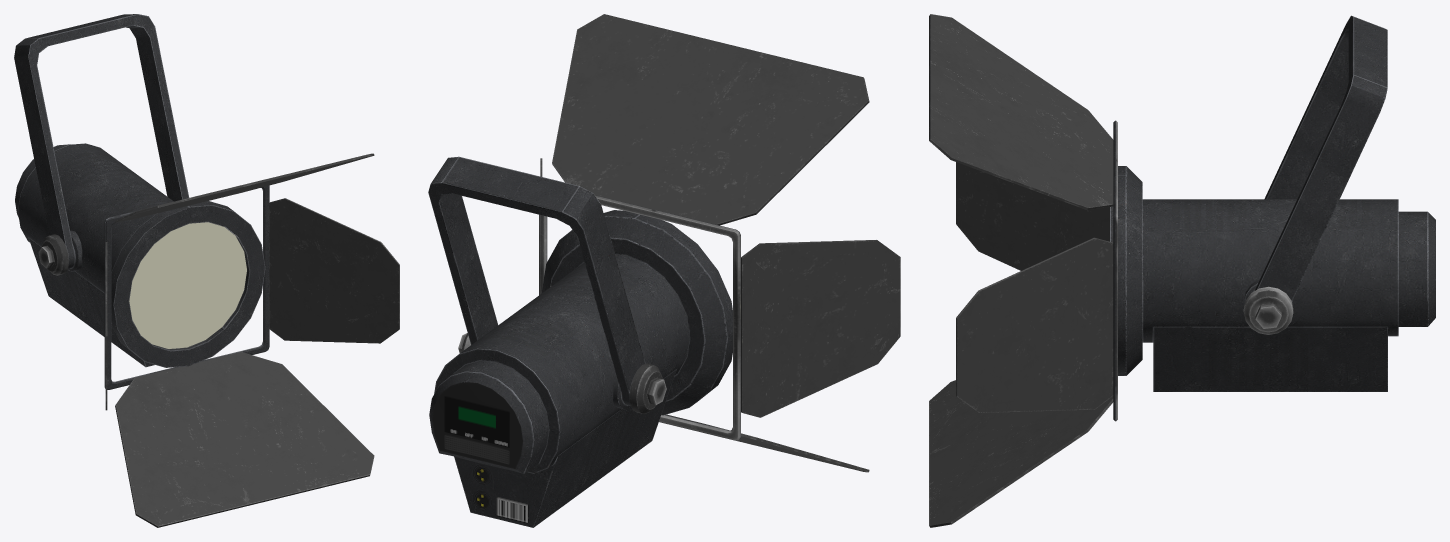
Rendered from spotlight.glb.
The picture shows the model from 3 angles, left to right: view 1: azimuth 30°, elevation 25°; view 2: azimuth 150°, elevation 25°; view 3: azimuth 270°, elevation 25°; orthographic projection. The views are drawn at different scales.
Parts seen in each view (by area): view 1: polySurface1; view 2: polySurface1; view 3: polySurface1.
Part boxes in pixels (bbox=[...]): polySurface1: bbox=[14, 14, 399, 527]; polySurface1: bbox=[428, 14, 900, 527]; polySurface1: bbox=[929, 14, 1435, 527].
Size of the model in its own units: 0.4278 by 0.4832 by 0.5285.
1 material, 1 textured.
